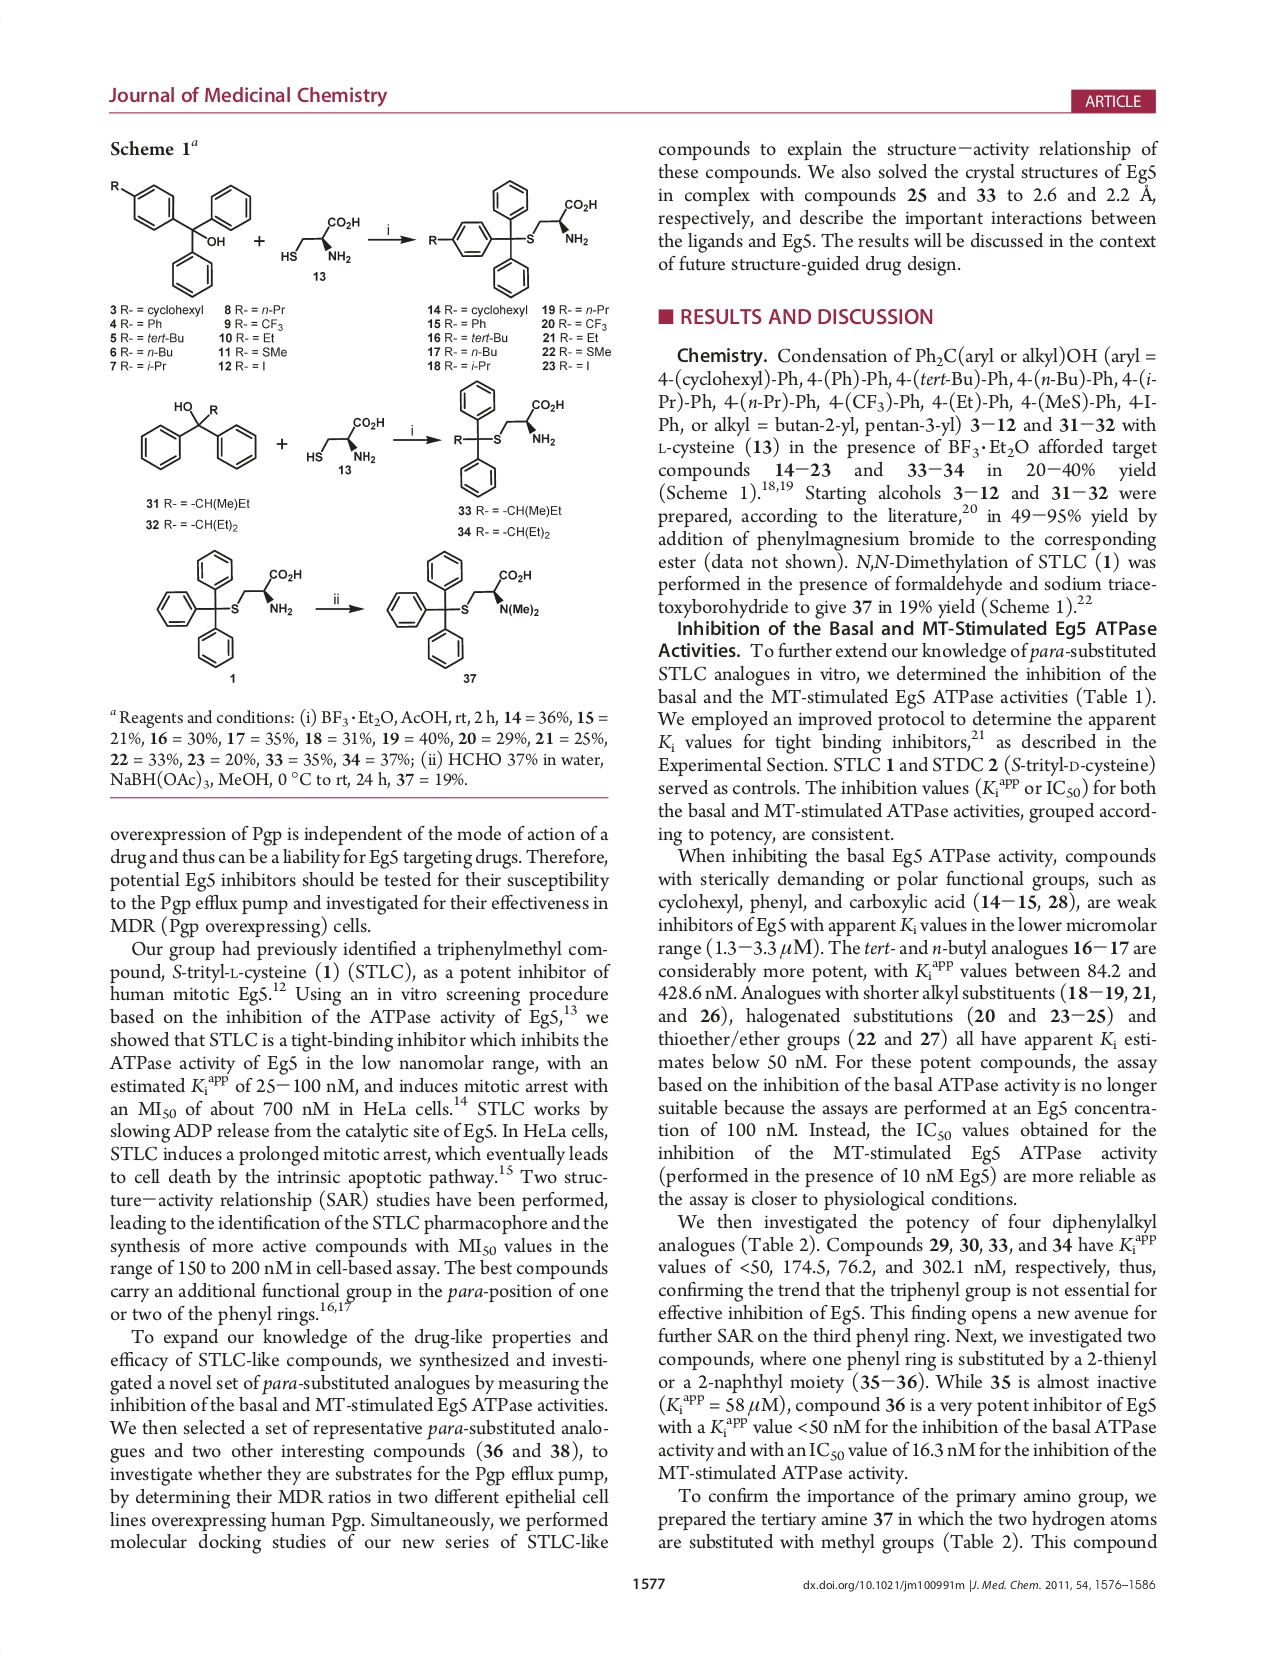exist_molecular: (423, 177, 600, 301), (383, 548, 543, 669), (156, 549, 305, 670), (108, 176, 253, 298), (449, 376, 567, 497), (137, 398, 261, 471), (277, 207, 364, 267), (301, 411, 390, 465)
